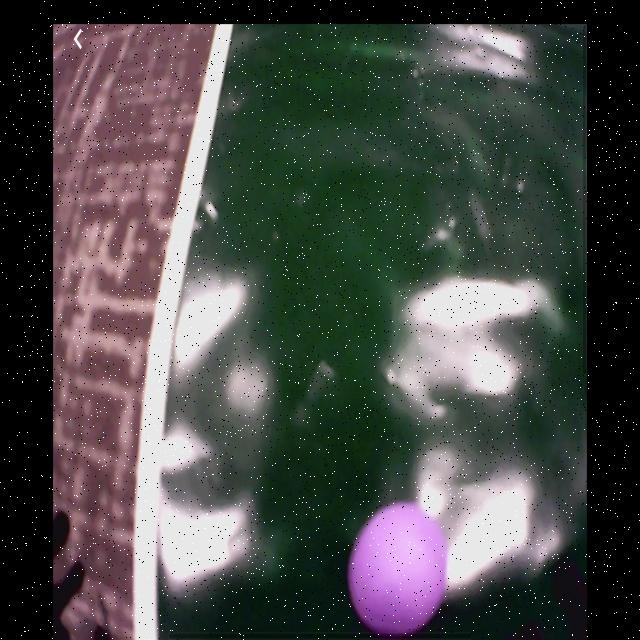ball: (350, 503, 449, 632)
